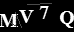7: (38, 5, 49, 20)
M: (1, 12, 18, 28)
Q: (59, 10, 74, 29)
V: (18, 9, 34, 24)
